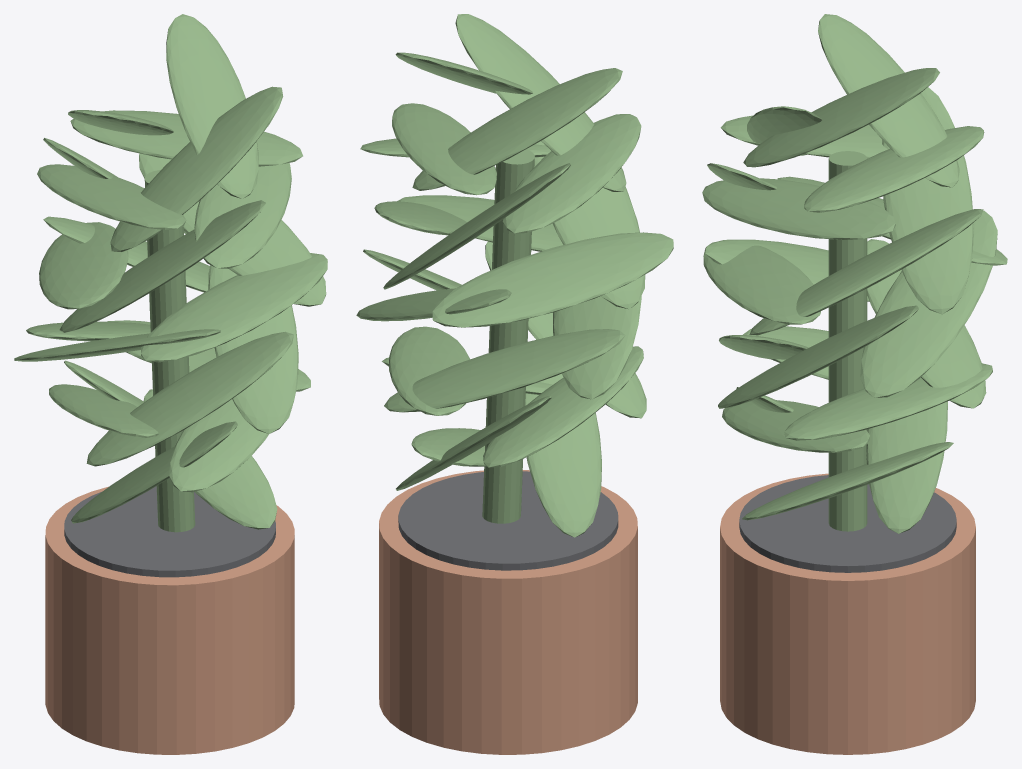
Rendered from plant.glb.
The picture shows the model from 3 angles, left to right: view 1: azimuth 30°, elevation 25°; view 2: azimuth 150°, elevation 25°; view 3: azimuth 270°, elevation 25°; orthographic projection. The views are drawn at different scales.
Parts seen in each view (by area): view 1: TERRACOTTA_pot, DARK_soil, GREEN_leaf_6, GREEN_leaf_11, GREEN_leaf_21, GREEN_leaf_19, GREEN_leaf_14, GREEN_leaf_12, GREEN_leaf_16, GREEN_leaf_8, GREEN_stem, GREEN_leaf_17 (+13 smaller); view 2: TERRACOTTA_pot, DARK_soil, GREEN_leaf_12, GREEN_leaf_7, GREEN_leaf_20, GREEN_leaf_17, GREEN_stem, GREEN_leaf_1, GREEN_leaf_19, GREEN_leaf_4, GREEN_leaf_18, GREEN_leaf_9 (+12 smaller); view 3: TERRACOTTA_pot, DARK_soil, GREEN_leaf_10, GREEN_leaf_15, GREEN_leaf_20, GREEN_leaf_16, GREEN_stem, GREEN_leaf_2, GREEN_leaf_21, GREEN_leaf_18, GREEN_leaf_13, GREEN_leaf_5 (+12 smaller).
Part boxes in pixels (x1,y1,x2,y2): TERRACOTTA_pot: (45,486,294,754); DARK_soil: (64,486,275,577); GREEN_leaf_6: (86,331,293,466); GREEN_leaf_11: (141,253,327,362); GREEN_leaf_21: (166,14,258,198); GREEN_leaf_19: (110,86,283,251); GREEN_leaf_14: (59,200,265,332); GREEN_leaf_12: (39,222,128,309); GREEN_leaf_16: (194,163,291,268); GREEN_leaf_8: (208,265,298,433); GREEN_stem: (144,170,195,532); GREEN_leaf_17: (37,164,186,229); TERRACOTTA_pot: (379,470,637,754); DARK_soil: (398,471,618,570); GREEN_leaf_12: (432,232,673,327); GREEN_leaf_7: (384,329,625,412); GREEN_leaf_20: (412,68,622,190); GREEN_leaf_17: (502,114,641,233); GREEN_stem: (482,149,534,523); GREEN_leaf_1: (525,373,601,537); GREEN_leaf_19: (455,14,626,191); GREEN_leaf_4: (483,346,643,467); GREEN_leaf_18: (392,103,496,195); GREEN_leaf_9: (553,296,641,399); TERRACOTTA_pot: (720,473,975,754); DARK_soil: (739,475,956,572); GREEN_leaf_10: (860,210,997,397); GREEN_leaf_15: (882,87,973,314); GREEN_leaf_20: (818,14,959,187); GREEN_leaf_16: (702,178,895,239); GREEN_stem: (828,151,867,531); GREEN_leaf_2: (866,401,947,533); GREEN_leaf_21: (743,68,939,167); GREEN_leaf_18: (804,126,984,212); GREEN_leaf_13: (749,209,983,335); GREEN_leaf_5: (784,363,992,440).
Bounding box in the file's own units: 0.7338 × 1.7 × 0.7161.
